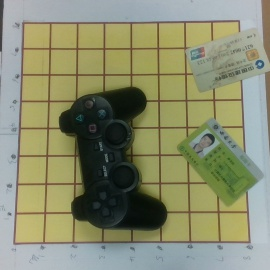card: (176, 116, 264, 207), (183, 27, 270, 92)
remote: (54, 86, 168, 233)
